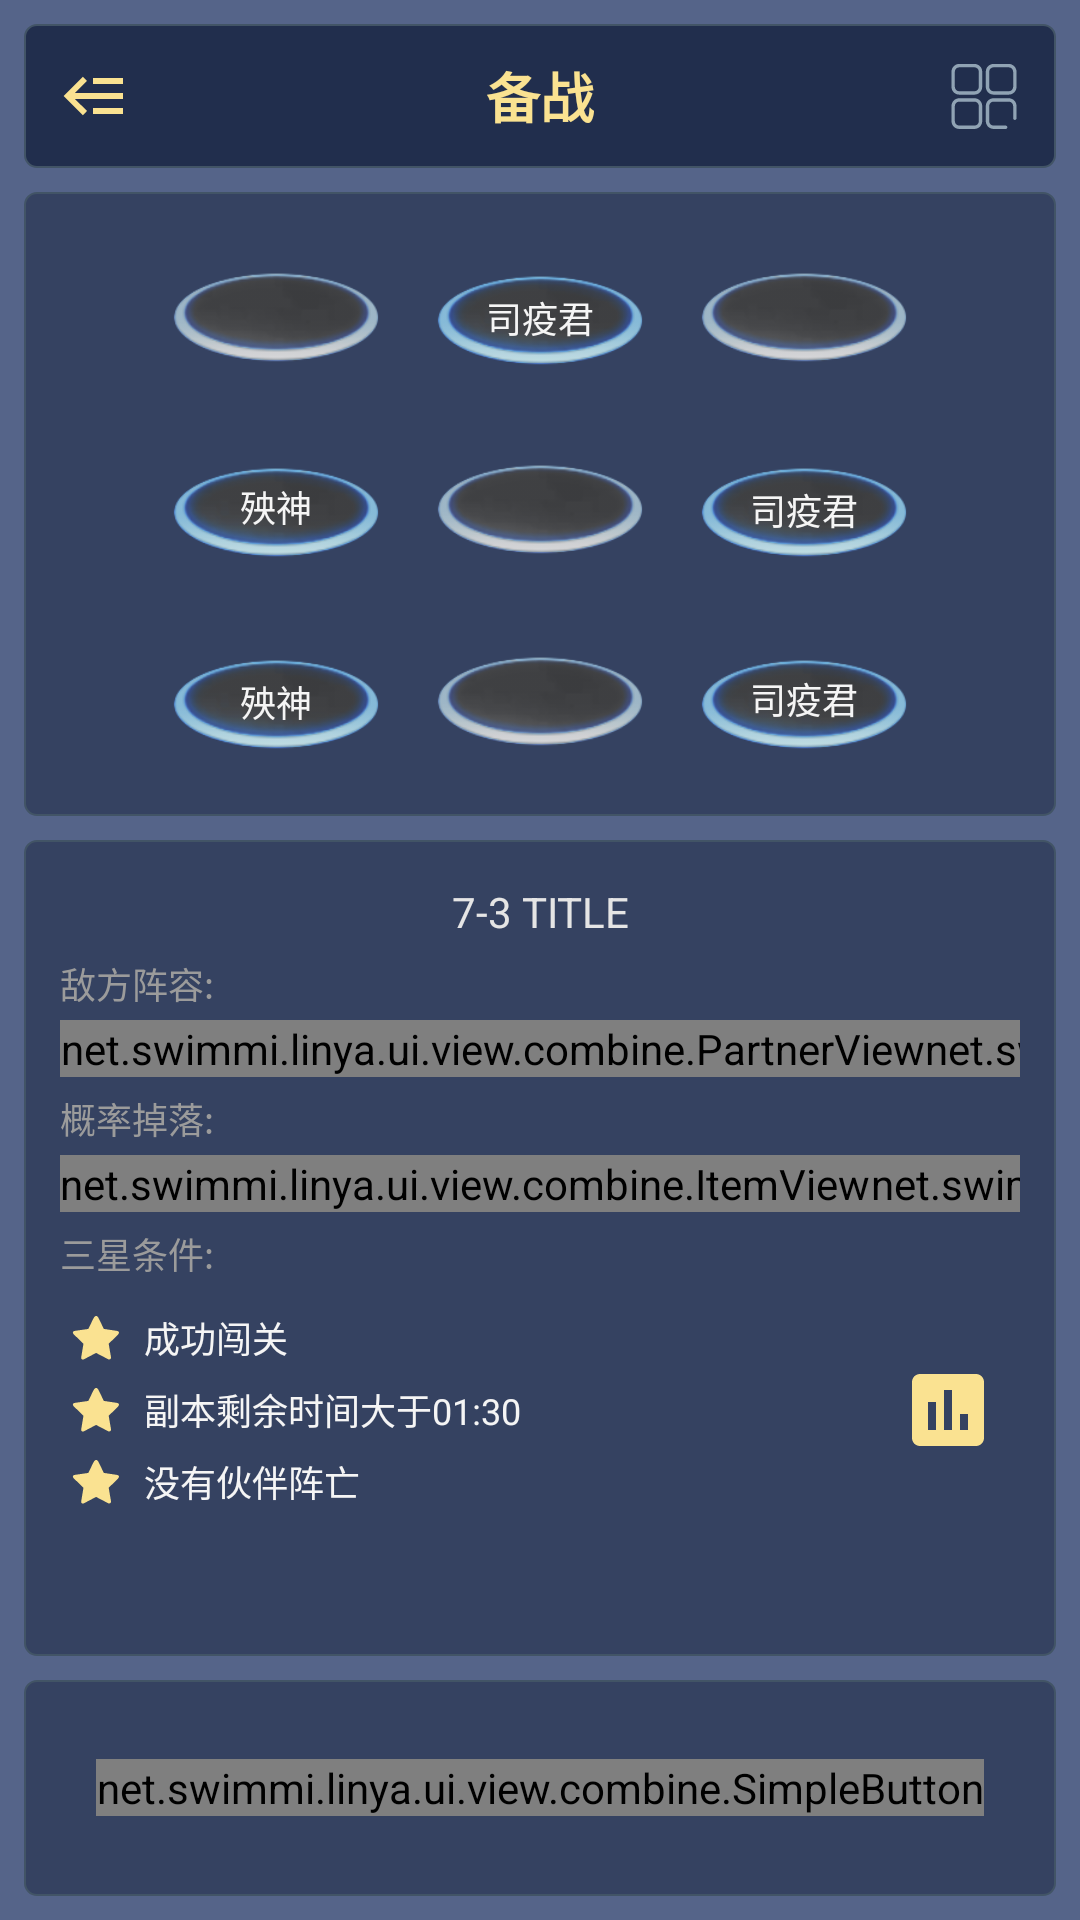

Where to tap for icons on this 1080px x 1920px app screen, as (x=x, y=y):
back: (x=93, y=96)
report: (x=948, y=1410)
